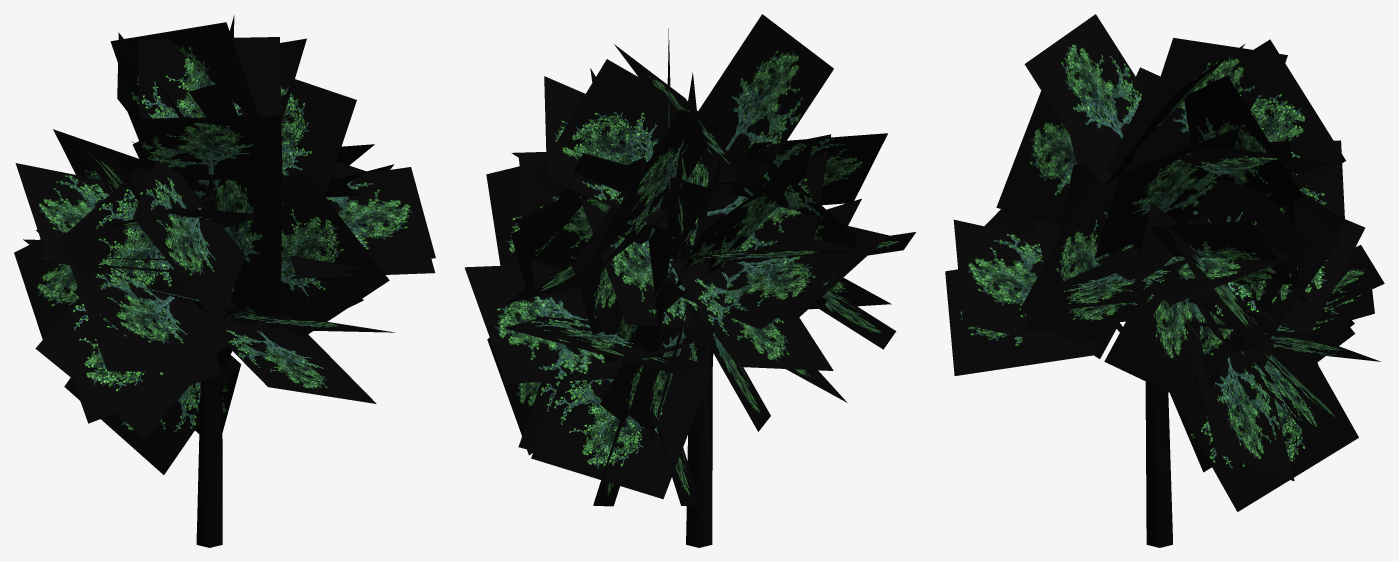
File: tree80.glb
3 views of the same model, side by side, from view 1: azimuth 30°, elevation 25°; view 2: azimuth 150°, elevation 25°; view 3: azimuth 270°, elevation 25° (orthographic).
Size of the model in its own units: 5.56 by 7.11 by 5.49.
Materials: 2 (1 with a texture image).
